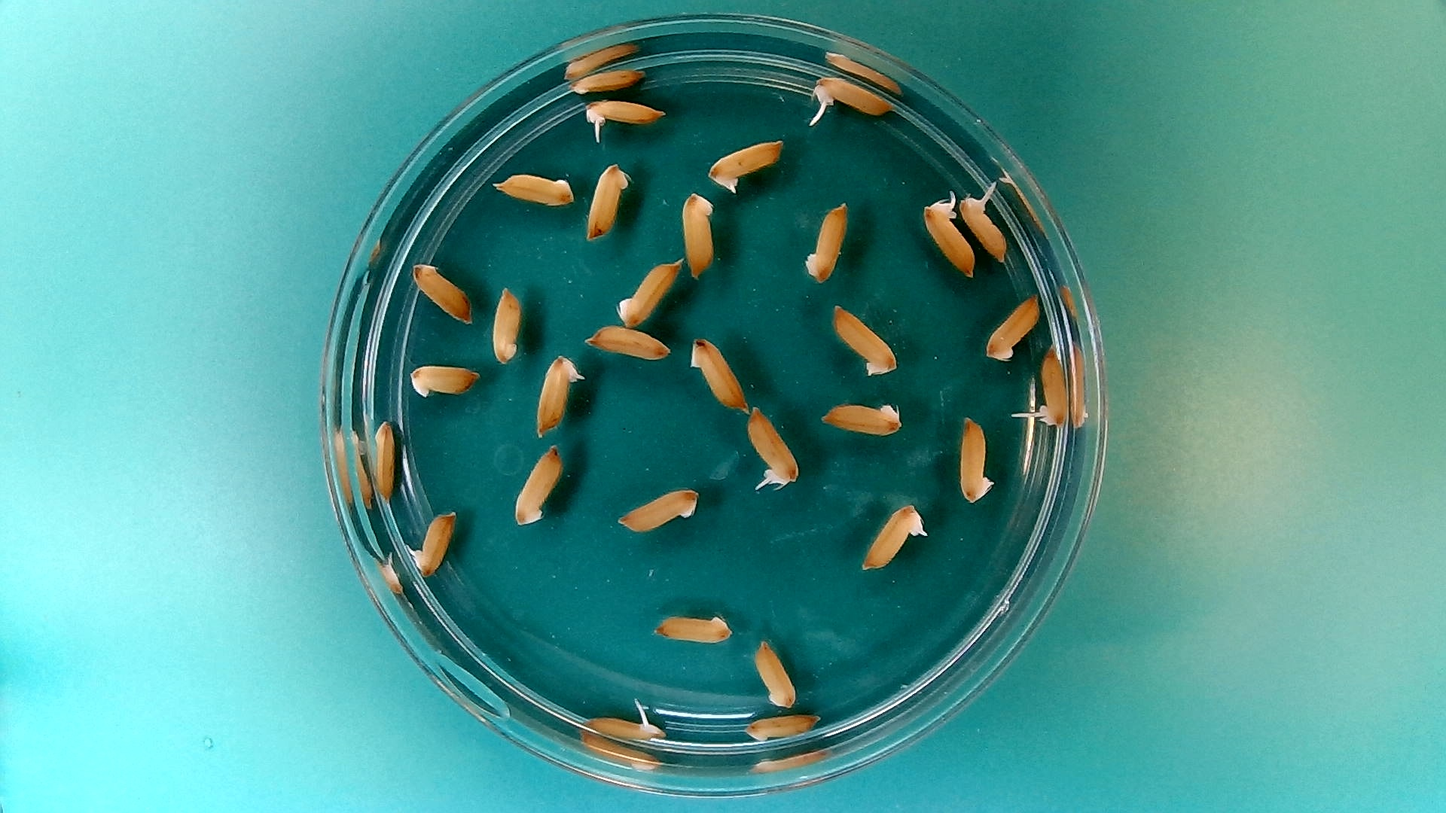no: (827, 300, 900, 381), (612, 254, 685, 328), (509, 439, 568, 528), (703, 135, 789, 195), (688, 333, 751, 413), (799, 195, 852, 285), (613, 483, 702, 535), (581, 156, 633, 244), (983, 290, 1043, 364), (408, 257, 474, 324), (955, 411, 996, 509), (817, 397, 907, 439), (679, 190, 720, 282), (751, 635, 799, 711), (583, 322, 670, 362), (491, 169, 578, 208), (652, 609, 737, 647), (404, 360, 484, 400), (413, 508, 456, 578), (566, 62, 648, 97), (489, 282, 523, 366), (741, 711, 822, 744), (369, 418, 398, 503)
yes: (857, 502, 923, 574), (744, 408, 799, 485), (920, 201, 974, 279), (810, 74, 894, 117), (533, 358, 581, 433), (958, 193, 1009, 263), (1036, 346, 1074, 426), (580, 96, 667, 128), (583, 714, 665, 744)
